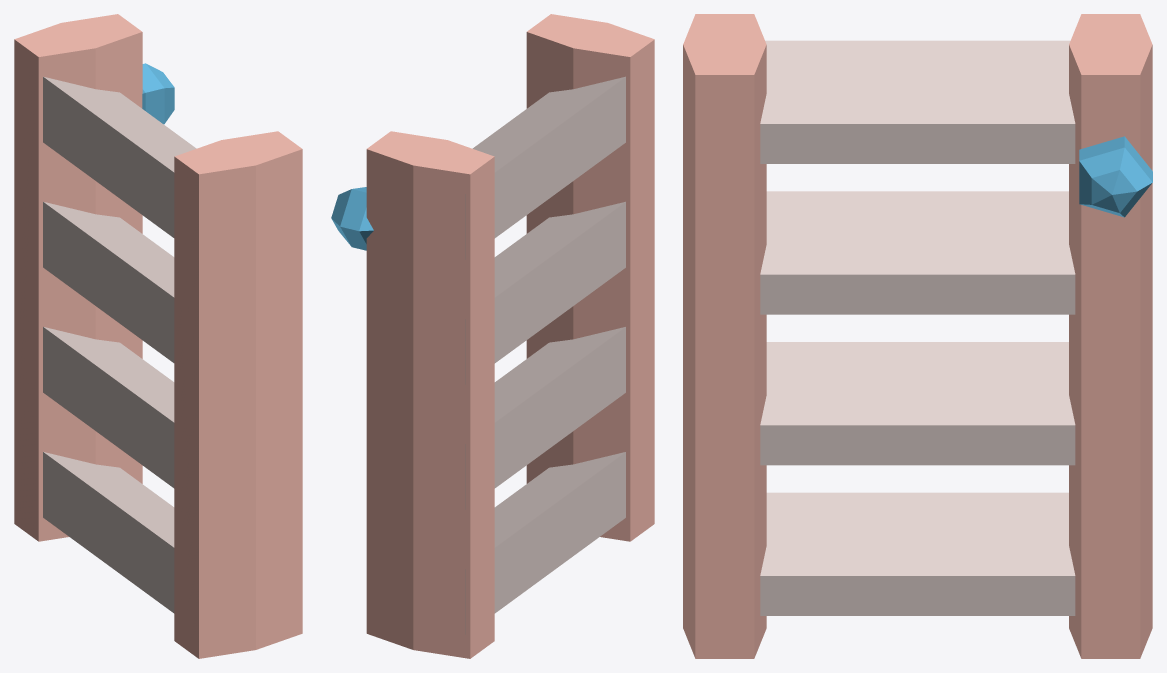
File: radiator.fbx
3 renders of one model, left to right at view 1: azimuth 30°, elevation 25°; view 2: azimuth 150°, elevation 25°; view 3: azimuth 270°, elevation 25°, orthographic. The views are drawn at different scales.
Parts seen in each view (by area): view 1: Sphere; view 2: Sphere; view 3: Sphere.
Boxes of the visible parts, x1,y1,x2,y2 form: Sphere: (14,14,302,658); Sphere: (331,14,654,658); Sphere: (683,14,1152,658).
Size of the model in its own units: 91.08 by 289 by 210.
